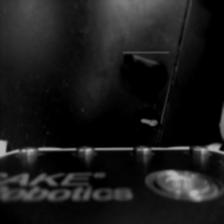Door Handle: (123, 52, 169, 91)
Lock: (135, 108, 159, 132)
